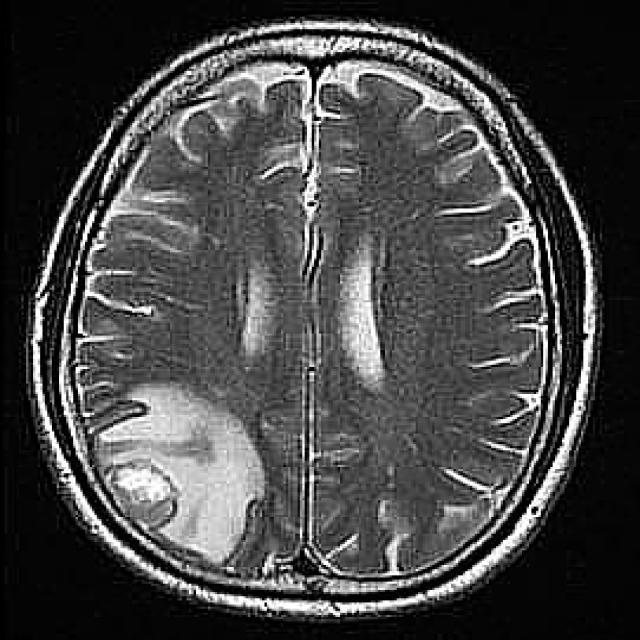Tumor-Cell: (104, 372, 262, 561)
